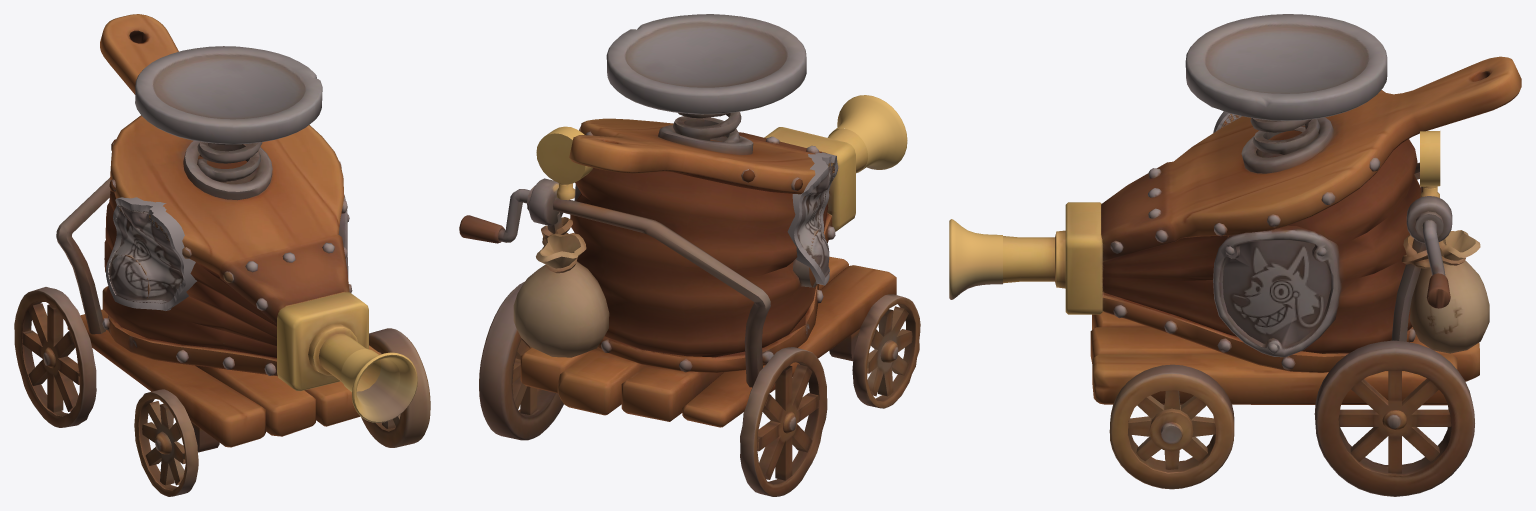
The model's file is bellows_machine_v5.glb.
3 views of the same model, side by side, from view 1: azimuth 30°, elevation 25°; view 2: azimuth 150°, elevation 25°; view 3: azimuth 270°, elevation 25° (orthographic). The views are drawn at different scales.
Parts seen in each view (by area): view 1: bellows_machine_v2; view 2: bellows_machine_v2; view 3: bellows_machine_v2.
Boxes of the visible parts, x1=… form: bellows_machine_v2: x1=14, y1=14, x2=430, y2=496; bellows_machine_v2: x1=459, y1=14, x2=920, y2=496; bellows_machine_v2: x1=949, y1=14, x2=1521, y2=496.
Bounding box in the file's own units: 2.77 × 3.2 × 4.41.
Materials: 1 (1 with a texture image).
